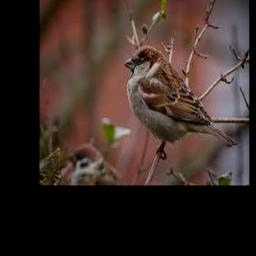Sparrow: (124, 45, 237, 158)
